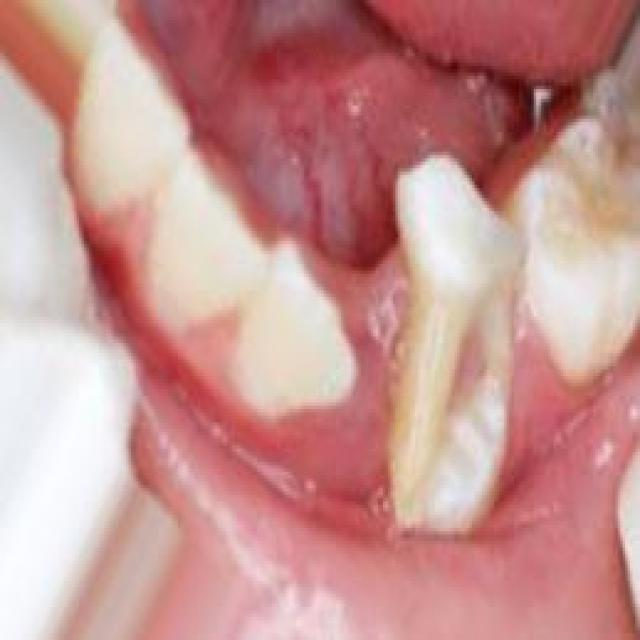caries: (372, 172, 528, 534)
